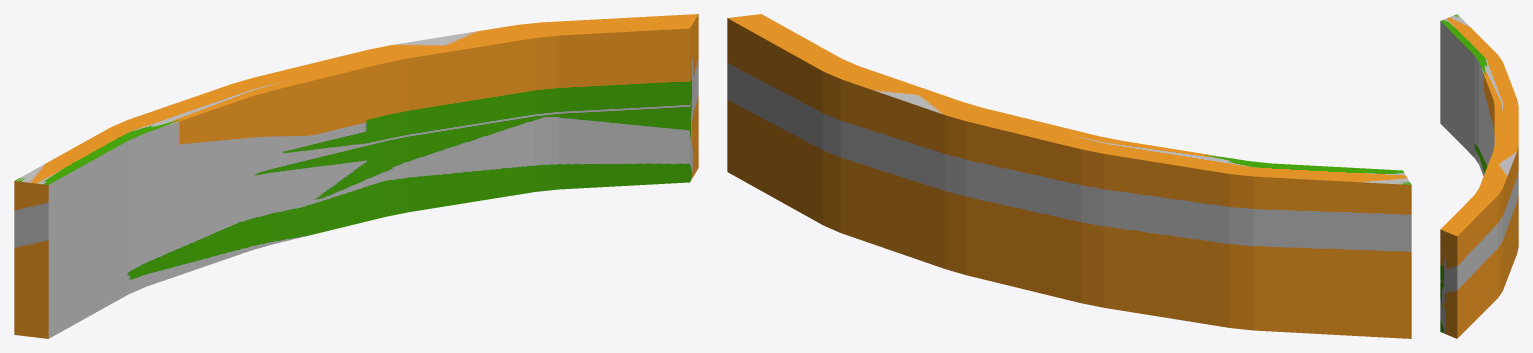
File: Barrier.fbx
3 renders of one model, left to right at view 1: azimuth 30°, elevation 25°; view 2: azimuth 150°, elevation 25°; view 3: azimuth 270°, elevation 25°, orthographic. The views are drawn at different scales.
Parts seen in each view (by area): view 1: Cube; view 2: Cube; view 3: Cube.
Boxes of the visible parts, <box> form: Cube: <box>14,14,698,338</box>; Cube: <box>727,14,1411,338</box>; Cube: <box>1440,14,1518,338</box>.
Size of the model in its own units: 930 by 200 by 138.
